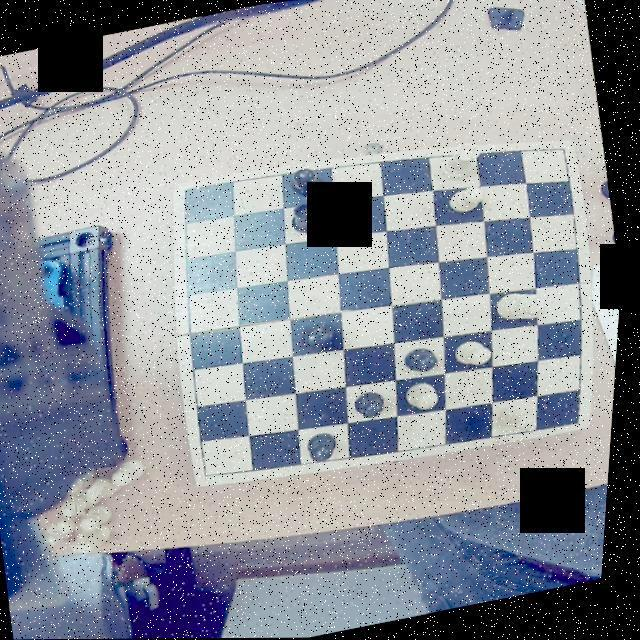chess-table-corners: (176, 179, 207, 206), (198, 459, 227, 485), (565, 412, 598, 434), (554, 141, 580, 164)
